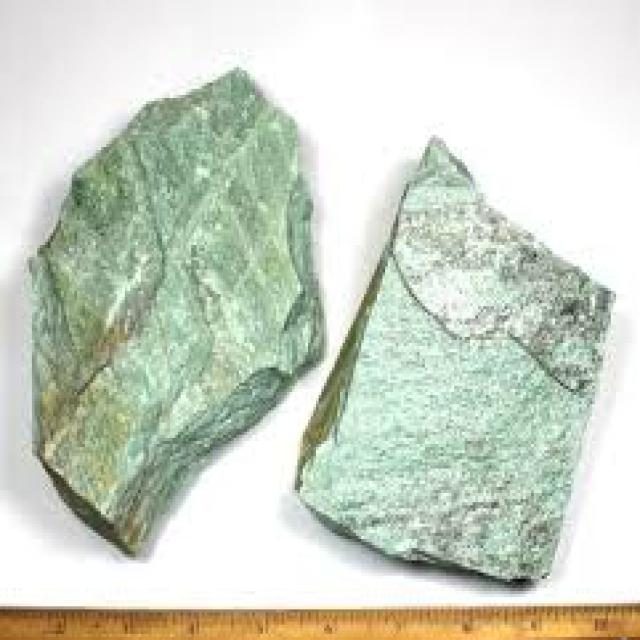Metamorphic: (24, 40, 316, 563), (292, 104, 600, 579)
